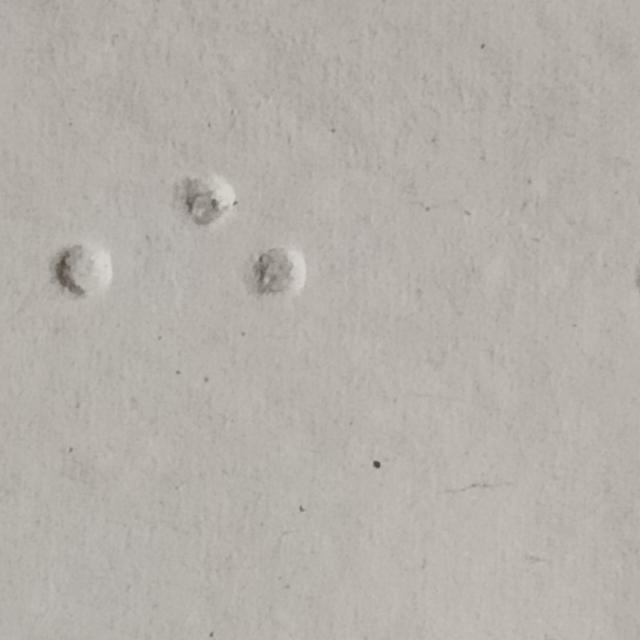dot_5: (0, 171, 111, 370)
ewan: (185, 175, 305, 375)
